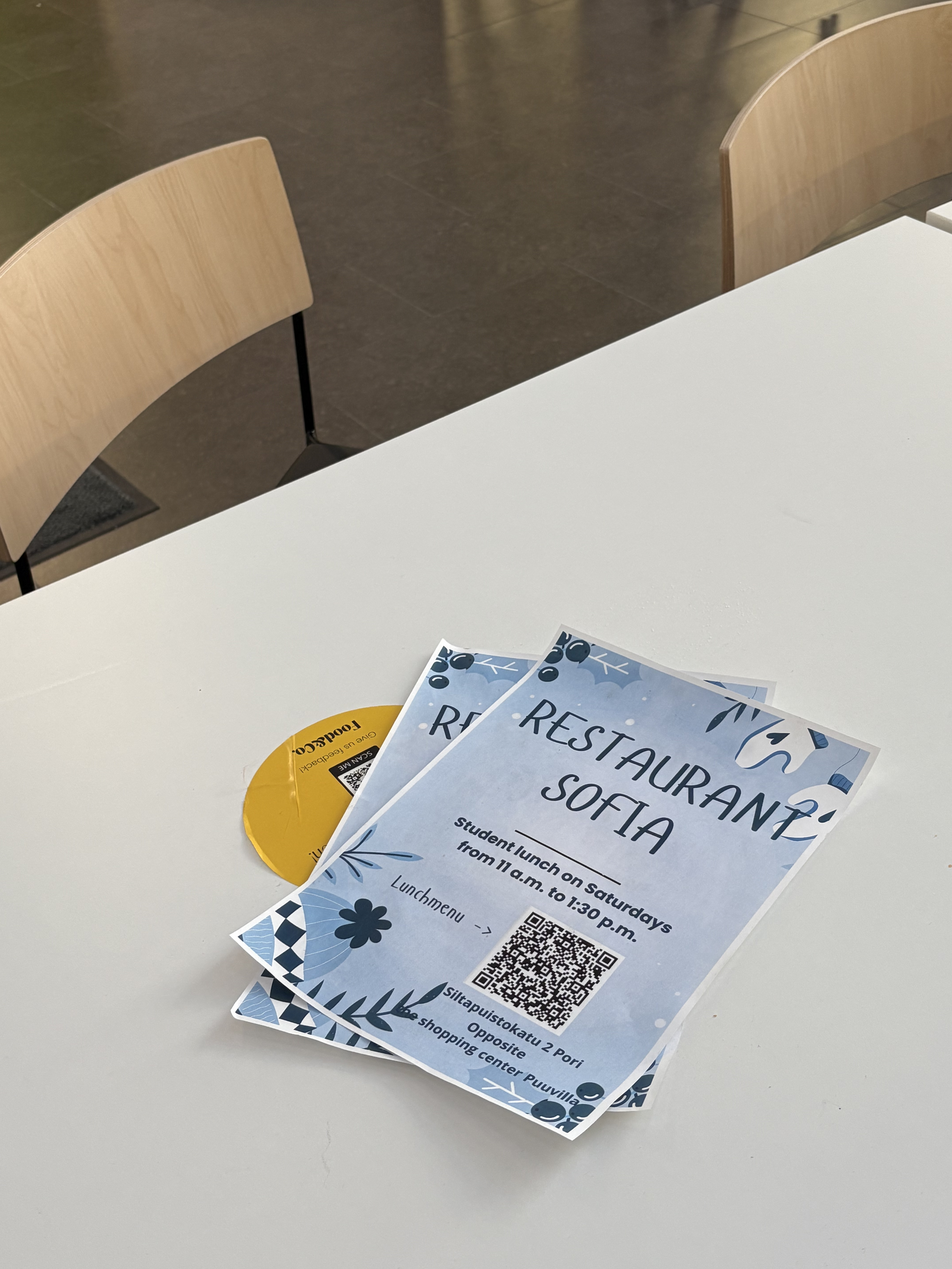paper: (232, 626, 875, 1140)
